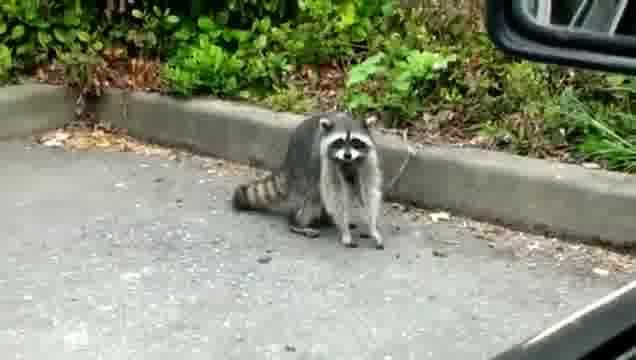raccoon: (232, 111, 391, 253)
